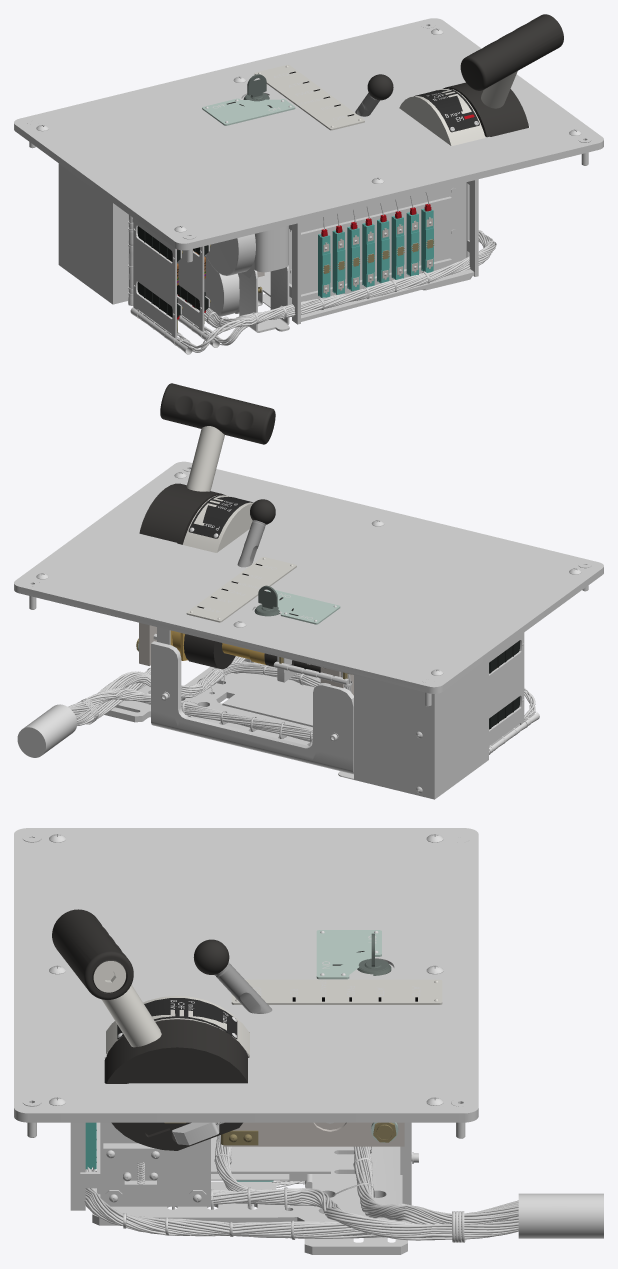
File: Master Controller.fbx
3 renders of one model, top to bottom at view 1: azimuth 30°, elevation 25°; view 2: azimuth 150°, elevation 25°; view 3: azimuth 270°, elevation 25°, orthographic. The views are drawn at different scales.
Parts seen in each view (by area): view 1: TCMS Shell_001, Wire Box, Thrust Lever Base, Fuse Holder_001, Front_Main_Wall_001, Copper_Plates, Wire Set_005, Net_Plate_001, TCMS Shell_003, Round_Plates, TCMS Shell_005, Front_Wall_001 (+13 smaller); view 2: TCMS Shell_001, Wire Box, Bottom_Plate_002, Thrust Lever Base, Bottom_Plate_001, TCMS Shell_005, TCMS Shell_003, Net_Plate_001, Wire Set_006, Main_Cylinder.001, Plug, TCMS Shell_006 (+6 smaller); view 3: TCMS Shell_001, Thrust Lever Base, Bottom_Plate_002, Front_Wall_001, TCMS Shell_005, Wire Set_007, Wire Set_005, Right_Side_Wall.002, Plug, Wire Set_006, Bottom_Plate_001, TCMS Shell_003 (+8 smaller).
Part boxes in pixels (x1,y1,x2,y2): TCMS Shell_001: [14, 18, 603, 250]; Wire Box: [58, 163, 142, 304]; Thrust Lever Base: [443, 14, 563, 137]; Fuse Holder_001: [318, 204, 433, 297]; Front_Main_Wall_001: [301, 187, 447, 294]; Copper_Plates: [239, 225, 289, 332]; Wire Set_005: [177, 231, 495, 328]; Net_Plate_001: [132, 218, 176, 338]; TCMS Shell_003: [399, 88, 485, 146]; Round_Plates: [199, 234, 255, 316]; TCMS Shell_005: [254, 64, 364, 130]; Front_Wall_001: [290, 181, 469, 324]; TCMS Shell_001: [14, 461, 603, 693]; Wire Box: [338, 658, 488, 799]; Bottom_Plate_002: [104, 641, 353, 774]; Thrust Lever Base: [139, 383, 275, 544]; Bottom_Plate_001: [222, 674, 320, 727]; TCMS Shell_005: [186, 557, 296, 622]; TCMS Shell_003: [183, 495, 253, 552]; Net_Plate_001: [489, 632, 524, 745]; Wire Set_006: [68, 687, 312, 742]; Main_Cylinder.001: [170, 630, 320, 672]; Plug: [17, 704, 77, 757]; TCMS Shell_006: [267, 590, 340, 624]; TCMS Shell_001: [14, 828, 478, 1122]; Thrust Lever Base: [52, 909, 248, 1150]; Bottom_Plate_002: [92, 1122, 411, 1254]; Front_Wall_001: [80, 1058, 210, 1206]; TCMS Shell_005: [231, 979, 442, 1004]; Wire Set_007: [105, 1057, 518, 1240]; Wire Set_005: [84, 1167, 413, 1238]; Right_Side_Wall.002: [221, 1122, 404, 1146]; Plug: [518, 1193, 603, 1238]; Wire Set_006: [354, 1146, 518, 1224]; Bottom_Plate_001: [211, 1136, 330, 1173]; TCMS Shell_003: [105, 995, 249, 1057].
Size of the model in its own units: 4.65 by 2.58 by 4.06.
